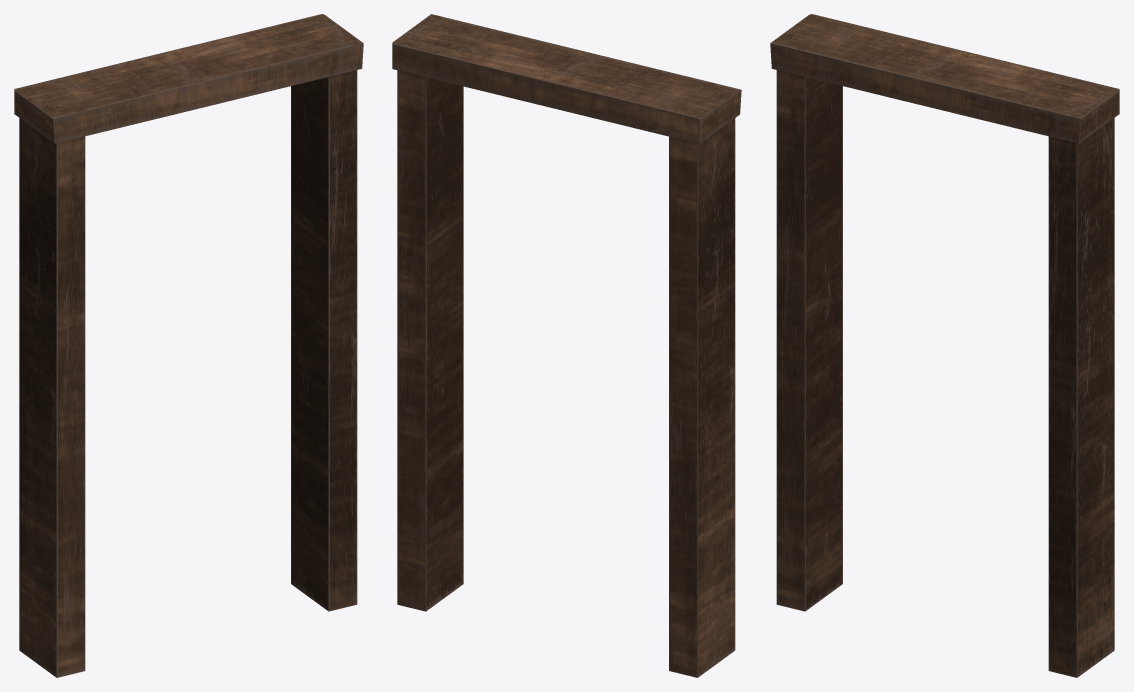
File: doorframe.glb
3 views of the same model, side by side, from view 1: azimuth 30°, elevation 25°; view 2: azimuth 150°, elevation 25°; view 3: azimuth 330°, elevation 25° (orthographic).
Visible parts, largest first — view 1: doorframe; view 2: doorframe; view 3: doorframe.
Boxes of the visible parts, x1=… form: doorframe: x1=14, y1=14, x2=363, y2=677; doorframe: x1=392, y1=14, x2=741, y2=677; doorframe: x1=770, y1=14, x2=1119, y2=677.
Bounding box in the file's own units: 0.9626 × 1.66 × 0.2171.
1 material, 1 textured.
